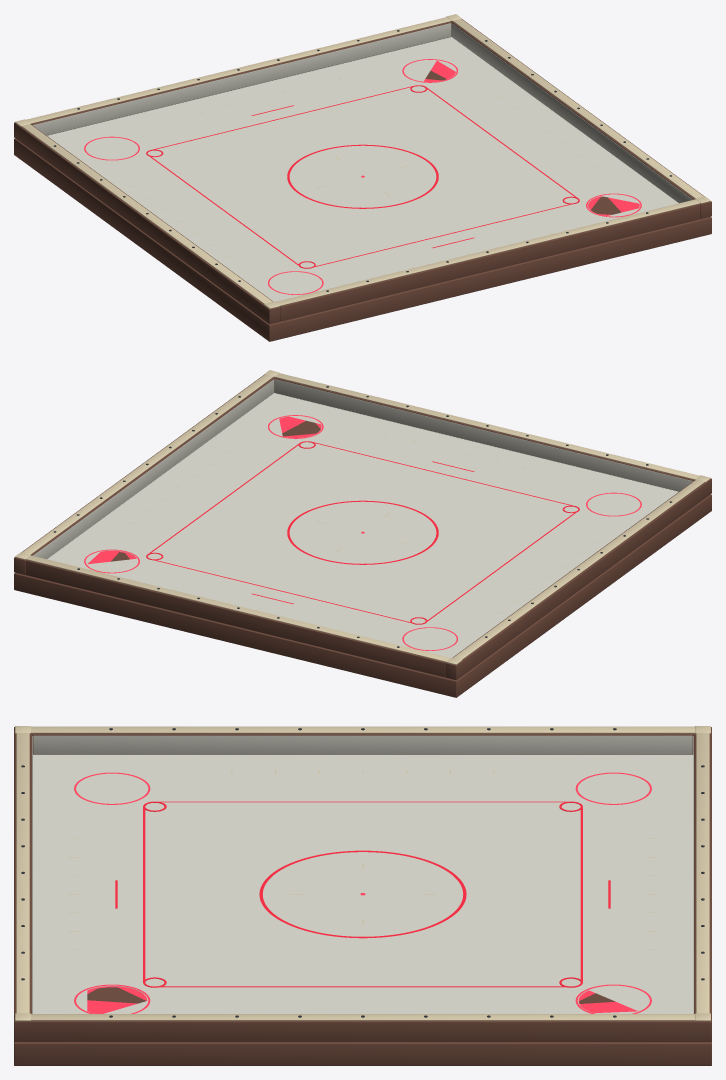
File: SM_BobArena_HighDetail.fbx
3 renders of one model, top to bottom at view 1: azimuth 30°, elevation 25°; view 2: azimuth 150°, elevation 25°; view 3: azimuth 270°, elevation 25°, orthographic. The views are drawn at different scales.
Parts seen in each view (by area): view 1: SM_BobArena_HighDetail; view 2: SM_BobArena_HighDetail; view 3: SM_BobArena_HighDetail.
Boxes of the visible parts, x1,y1,x2,y2 form: SM_BobArena_HighDetail: (14,14,711,341); SM_BobArena_HighDetail: (14,370,711,697); SM_BobArena_HighDetail: (14,726,711,1065).
Size of what is drawn, in the model's own units: 1308 by 95.7 by 1308.
